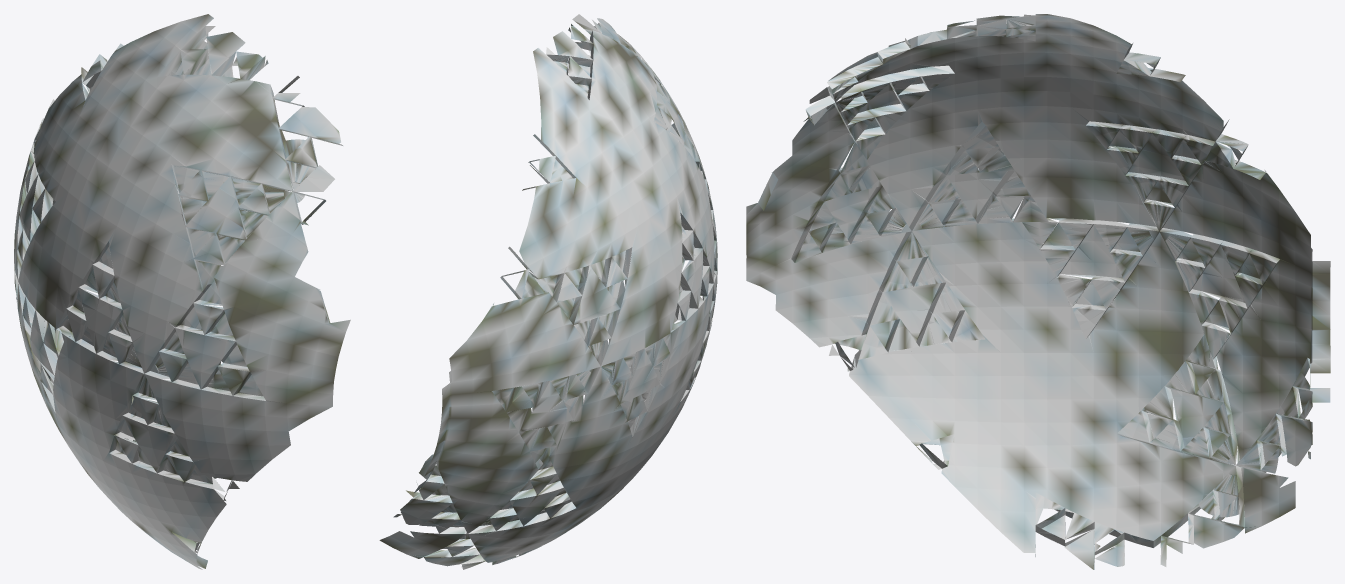
3 views of the same model, side by side, from view 1: azimuth 30°, elevation 25°; view 2: azimuth 150°, elevation 25°; view 3: azimuth 270°, elevation 25° (orthographic). The views are drawn at different scales.
Bounding box in the file's own units: 0.3172 × 0.8294 × 0.7918.
